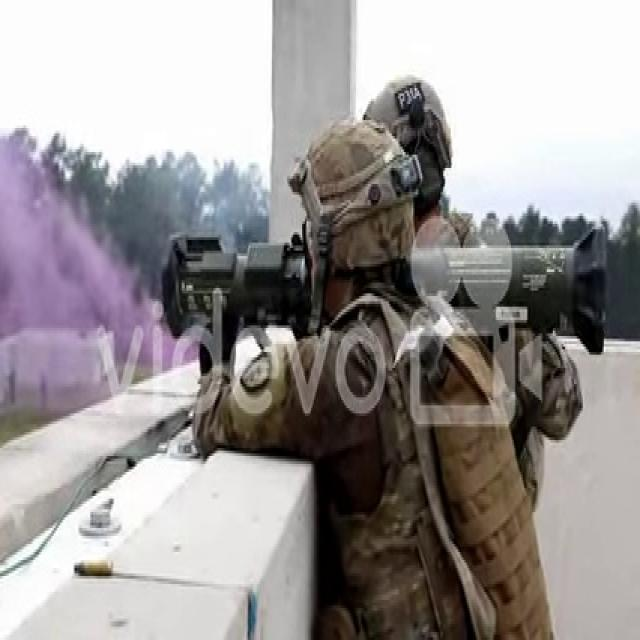bazooka: (157, 224, 612, 370)
